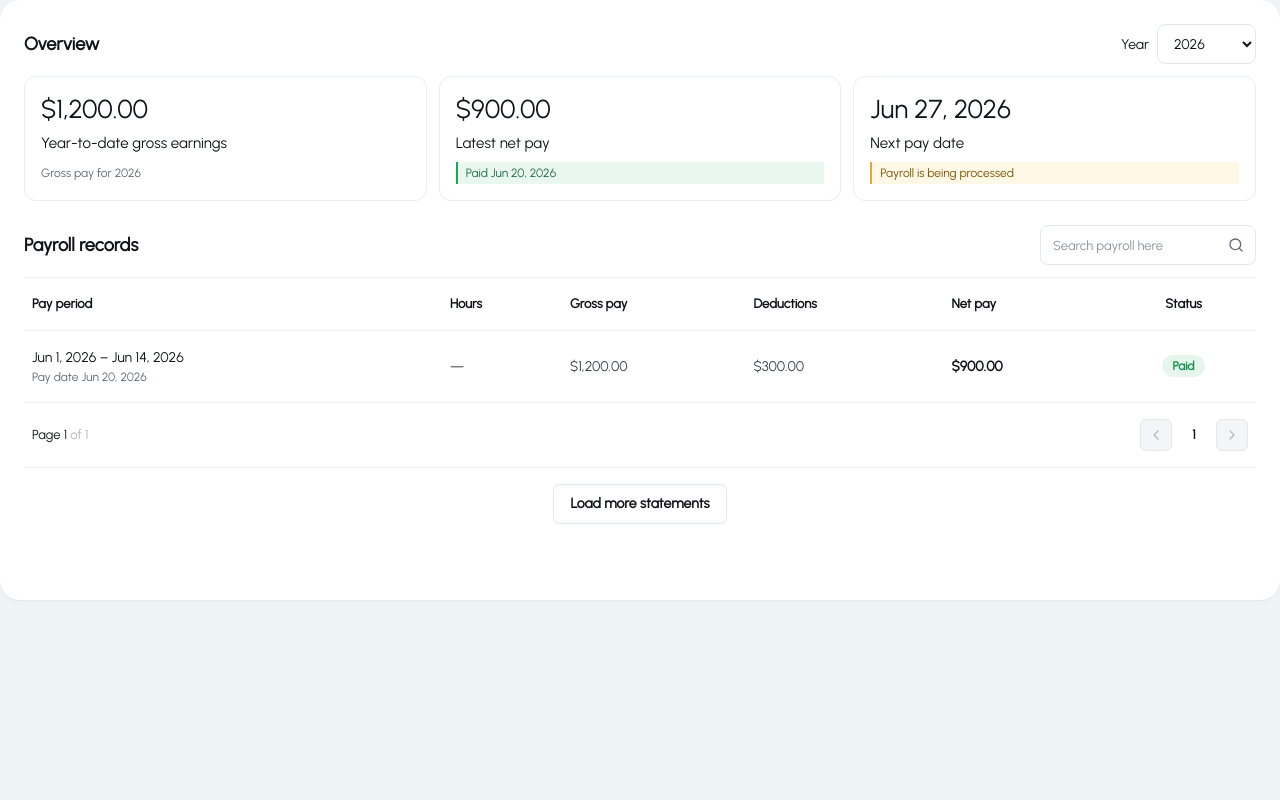
Test: MyPayrollPage › resets statement download errors after closing and reopening the detail dialog
This screenshot has width=1280, height=800.
Later steps or results of the test are not shown.
Click the button with aria-label "view details" at (108, 357), box x1=32 y1=346 x2=184 y2=368
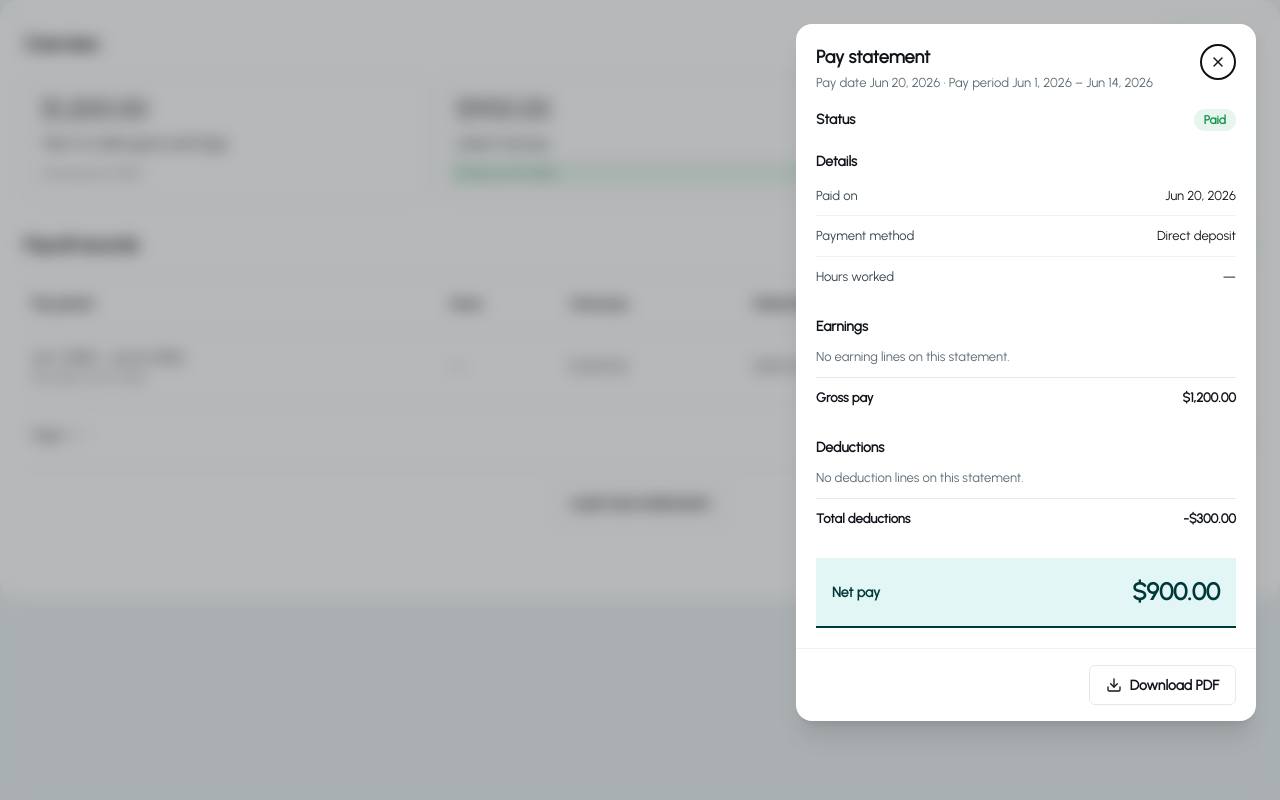
Click the button "Download PDF" at (1162, 685), box x1=1089 y1=665 x2=1236 y2=705
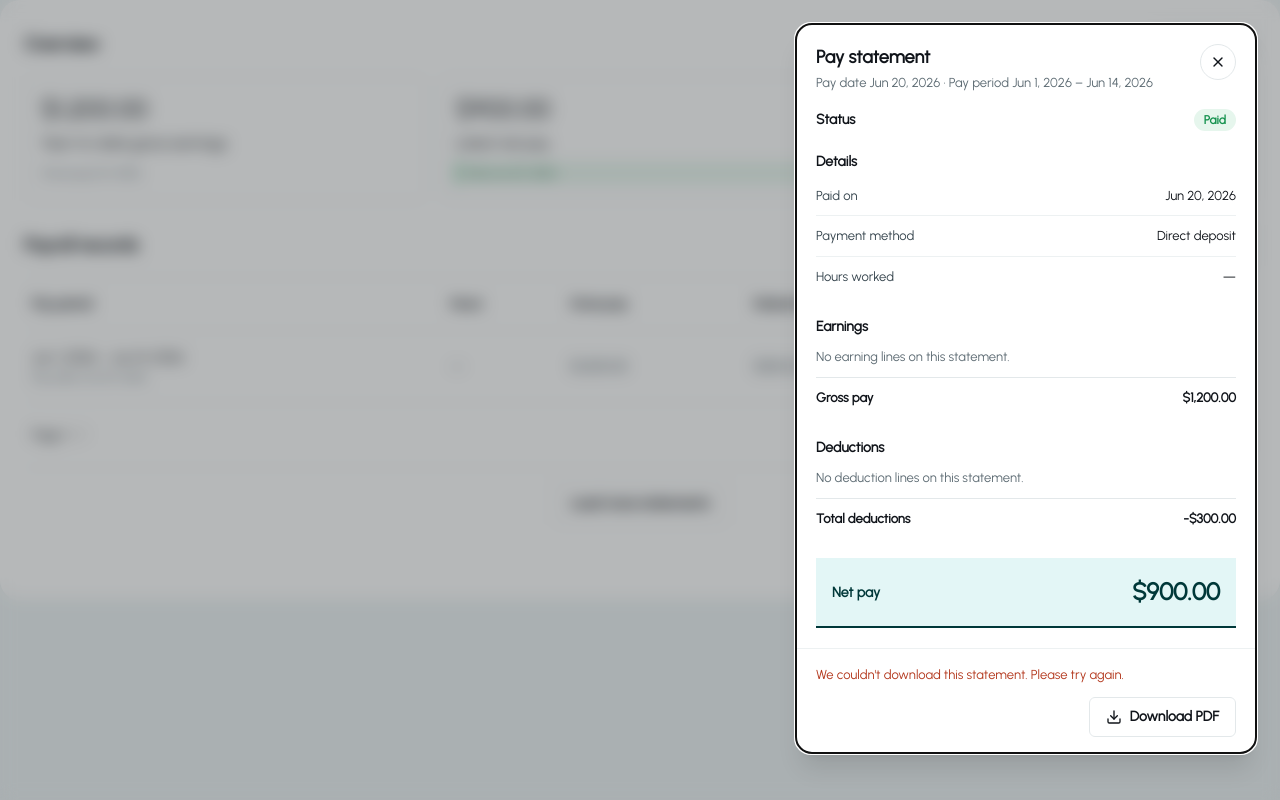
expect the message shows "couldn't download": met, box x1=816 y1=667 x2=1124 y2=682
